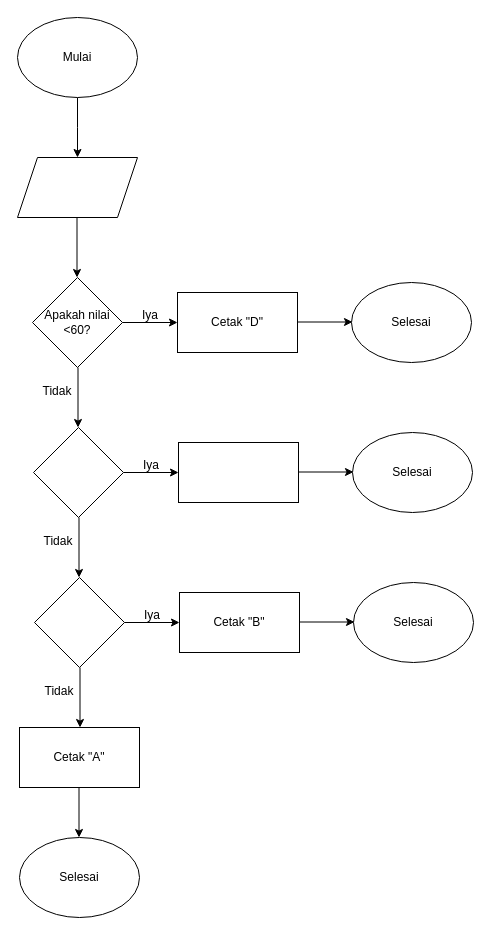
Image size: 491x935. Some labels were removed from this diagram. The centre of each missing label's shape, as x and y in pixels:
Apakah nilai <75?: point (78, 472)
Apakah nilai <85?: point (79, 622)
Cetak "C": point (238, 472)
Input nilai: point (77, 187)
